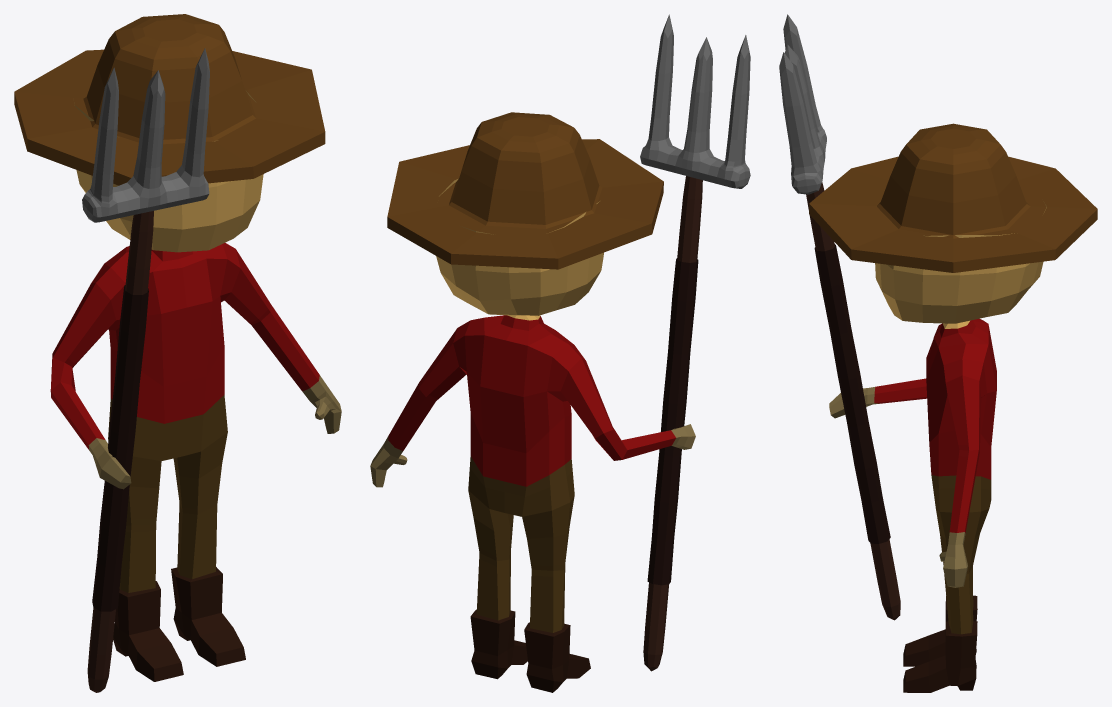
The model's file is peasant.obj.
3 views of the same model, side by side, from view 1: azimuth 30°, elevation 25°; view 2: azimuth 150°, elevation 25°; view 3: azimuth 270°, elevation 25° (orthographic). The views are drawn at different scales.
Parts seen in each view (by area): view 1: Character.001_Cube.011, Cube_Cube.001, Cube.006_Cube.005, Cube.004_Cube.009, Cube.005_Cube.004, Cube.003_Cube.008, Cube.007_Cube.006, Cube.002_Cube.007, Cube.008_Cube.010; view 2: Character.001_Cube.011, Cube_Cube.001, Cube.006_Cube.005, Cube.004_Cube.009, Cube.003_Cube.008, Cube.007_Cube.006, Cube.005_Cube.004, Cube.002_Cube.007, Cube.008_Cube.010; view 3: Character.001_Cube.011, Cube_Cube.001, Cube.007_Cube.006, Cube.003_Cube.008, Cube.004_Cube.009, Cube.005_Cube.004, Cube.006_Cube.005, Cube.002_Cube.007, Cube.008_Cube.010.
Part boxes in pixels (x1,y1,x2,y2): Character.001_Cube.011: (14,14,325,185); Cube_Cube.001: (50,243,319,449); Cube.006_Cube.005: (108,395,227,592); Cube.004_Cube.009: (82,48,209,222); Cube.005_Cube.004: (113,567,245,681); Cube.003_Cube.008: (92,285,148,611); Cube.007_Cube.006: (74,91,263,252); Cube.002_Cube.007: (87,211,153,692); Cube.008_Cube.010: (88,375,341,489); Character.001_Cube.011: (387,112,663,269); Cube_Cube.001: (388,315,675,486); Cube.006_Cube.005: (468,456,574,632); Cube.004_Cube.009: (640,14,750,188); Cube.003_Cube.008: (647,258,698,585); Cube.007_Cube.006: (436,178,603,320); Cube.005_Cube.004: (470,609,590,692); Cube.002_Cube.007: (643,176,702,671); Cube.008_Cube.010: (370,424,695,487); Character.001_Cube.011: (809,123,1097,272); Cube_Cube.001: (874,318,996,533); Cube.007_Cube.006: (875,201,1046,328); Cube.003_Cube.008: (814,244,890,543); Cube.004_Cube.009: (779,14,826,194); Cube.005_Cube.004: (903,595,977,692); Cube.006_Cube.005: (931,475,991,634); Cube.002_Cube.007: (806,182,900,620); Cube.008_Cube.010: (829,387,967,587).
Size of the model in its own units: 2.88 by 5.65 by 2.74.
